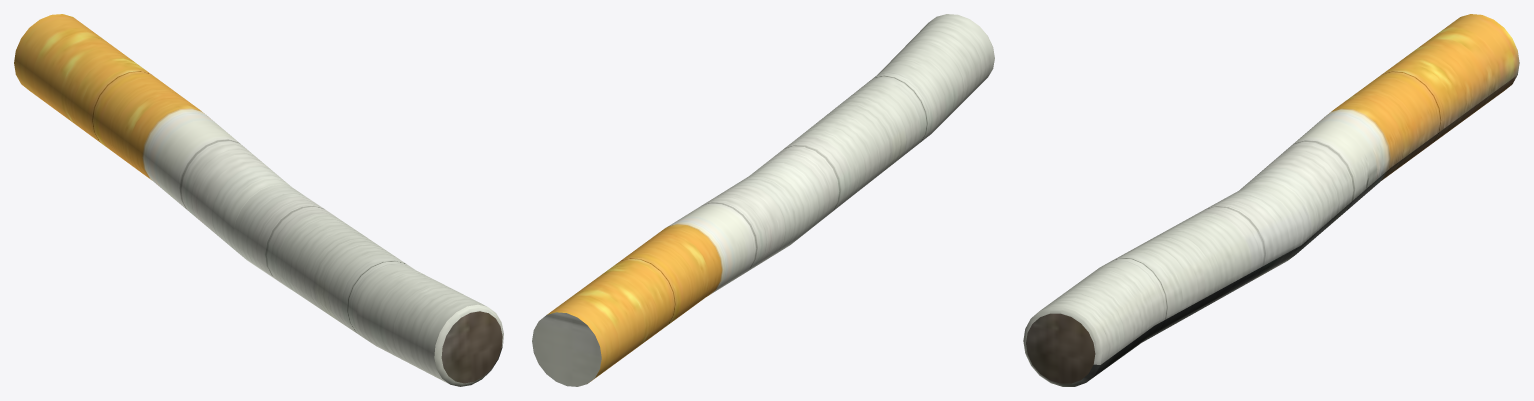
The model's file is Rööki.fbx.
The picture shows the model from 3 angles, left to right: view 1: azimuth 30°, elevation 25°; view 2: azimuth 150°, elevation 25°; view 3: azimuth 330°, elevation 25°; orthographic projection. The views are drawn at different scales.
Visible parts, largest first — view 1: röösni; view 2: röösni; view 3: röösni.
Boxes of the visible parts, x1,y1,x2,y2 form: röösni: [14, 14, 503, 386]; röösni: [532, 14, 994, 386]; röösni: [1023, 14, 1519, 386].
Bounding box in the file's own units: 0.7128 × 0.8426 × 6.29.
